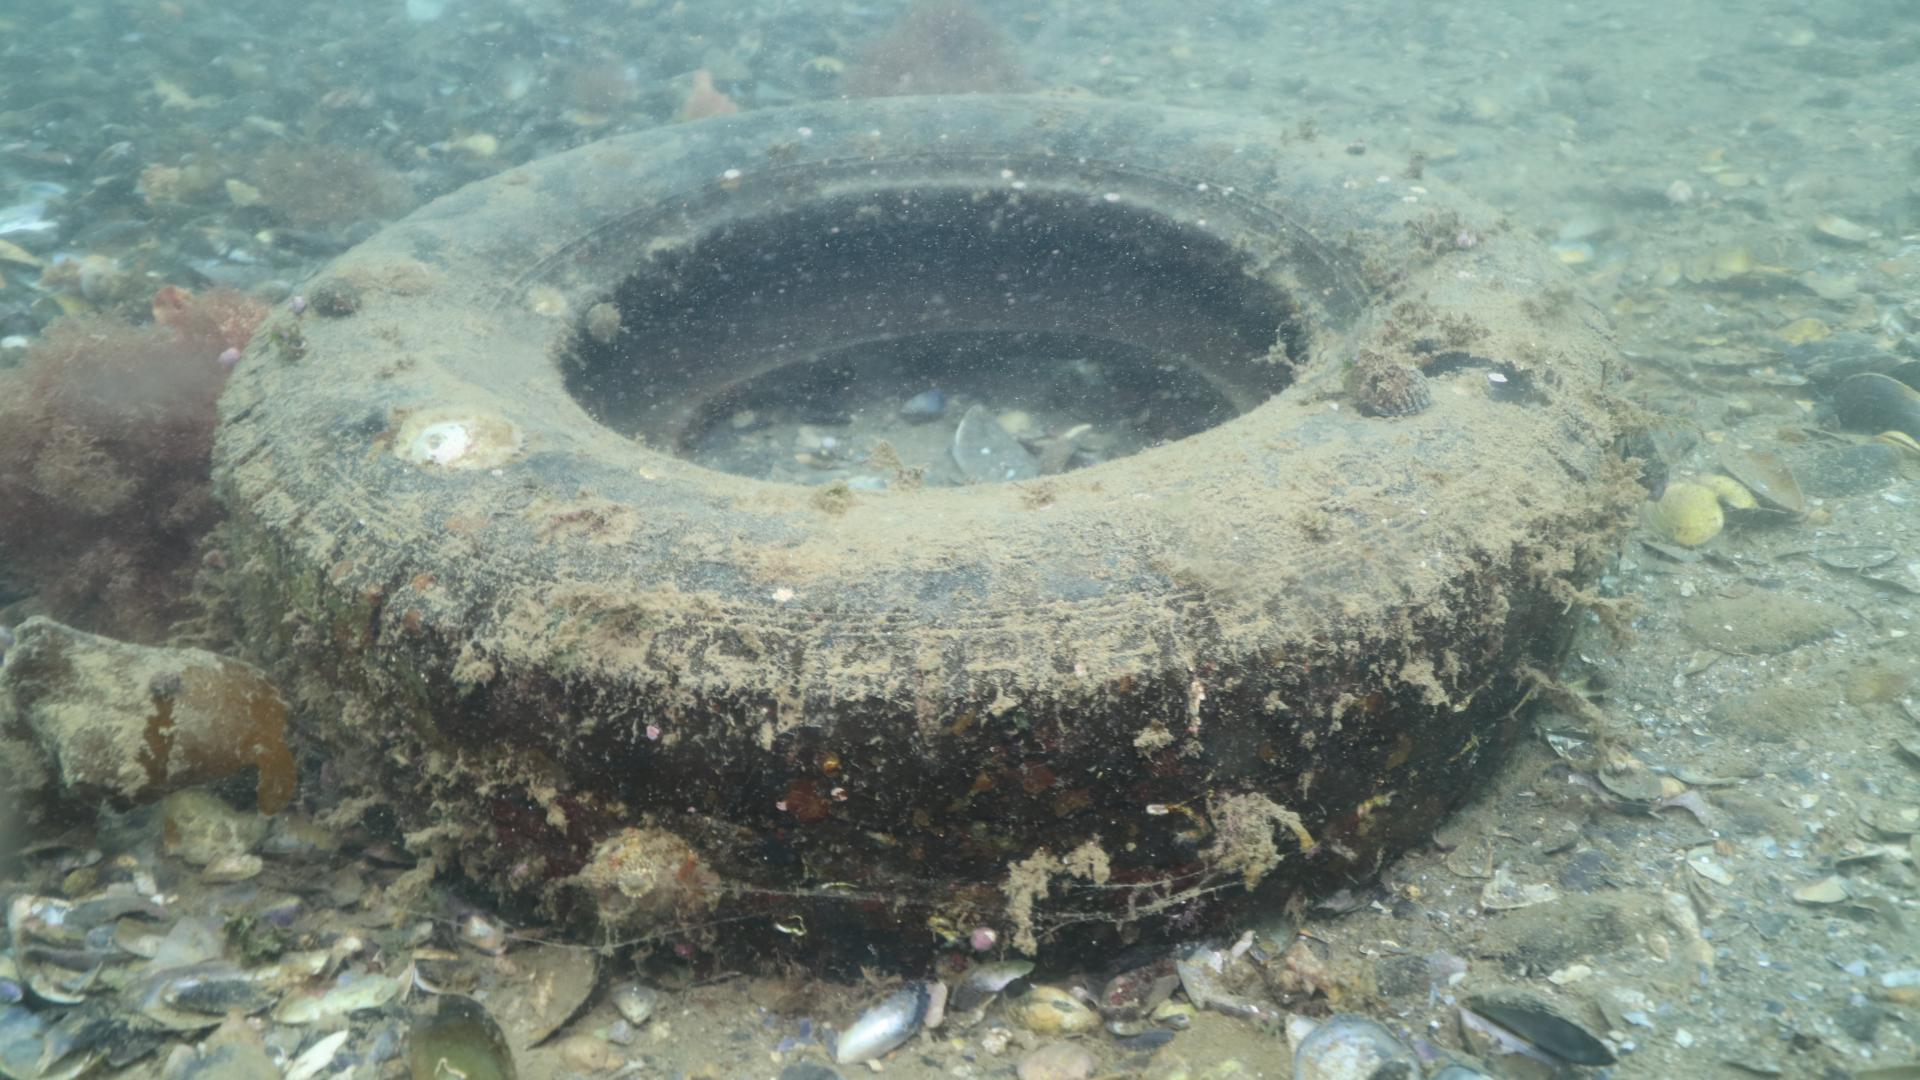tire: (212, 88, 1618, 949)
